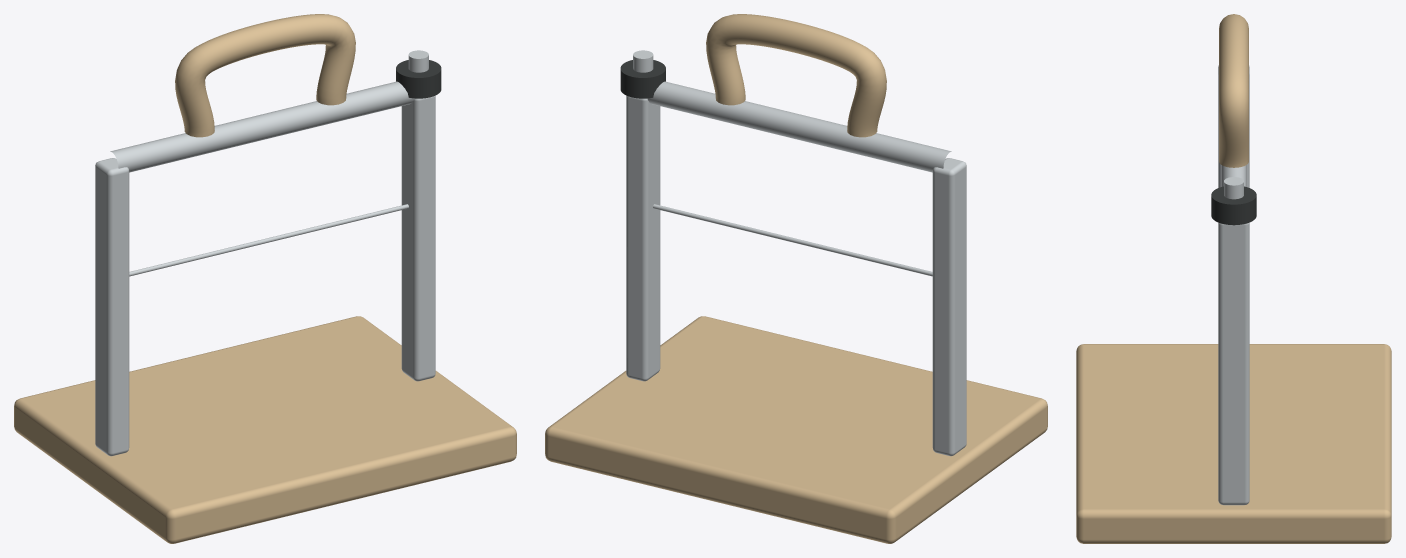
The model's file is candlemaking-and-soap-workshop-single-wire-cutter-cdb9eca8__30679.glb.
3 views of the same model, side by side, from view 1: azimuth 30°, elevation 25°; view 2: azimuth 150°, elevation 25°; view 3: azimuth 270°, elevation 25° (orthographic).
Parts seen in each view (by area): view 1: single-wire-cutter; view 2: single-wire-cutter; view 3: single-wire-cutter.
Boxes of the visible parts, x1=… form: single-wire-cutter: x1=14, y1=14, x2=516, y2=543; single-wire-cutter: x1=545, y1=14, x2=1047, y2=543; single-wire-cutter: x1=1076, y1=14, x2=1391, y2=543.
Size of the model in its own units: 0.32 by 0.3695 by 0.25.
